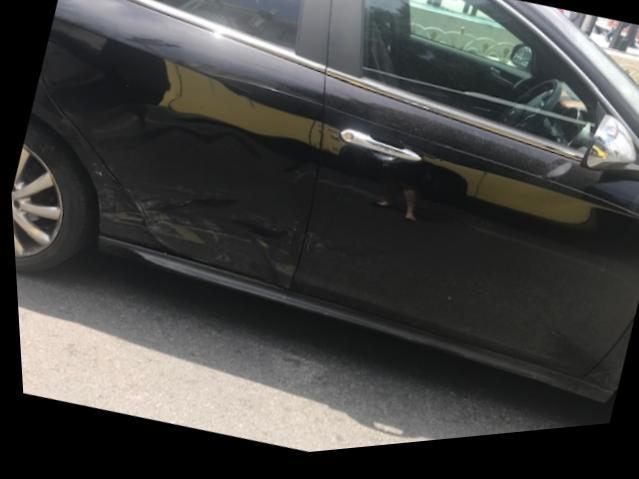dent: (139, 214, 268, 288), (247, 234, 297, 281)
rub: (84, 165, 135, 213), (121, 192, 160, 212)
